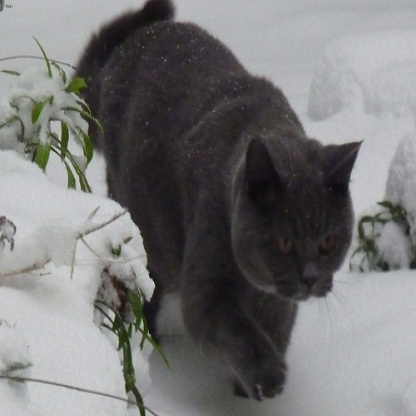british_shorthair: (75, 2, 359, 403)
